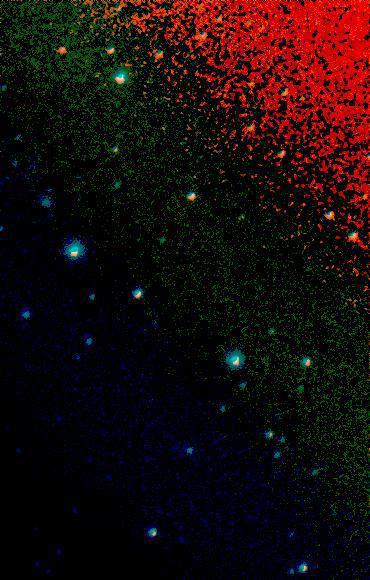star: (52, 35, 82, 65)
